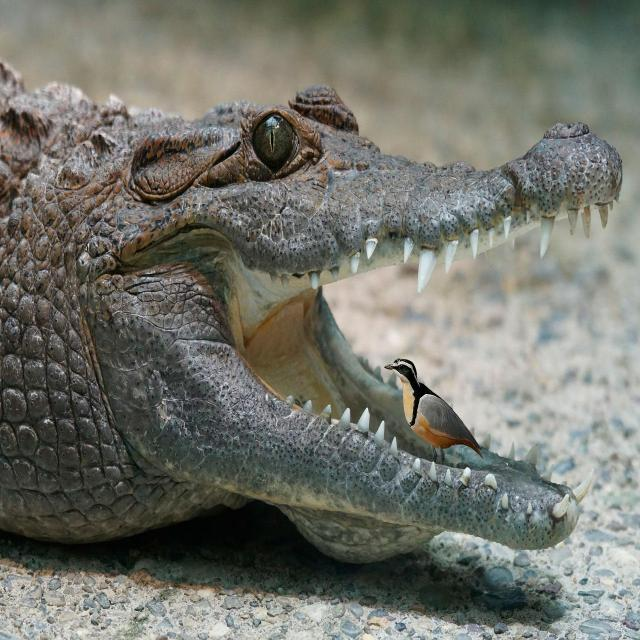crocodile: (0, 61, 617, 567)
